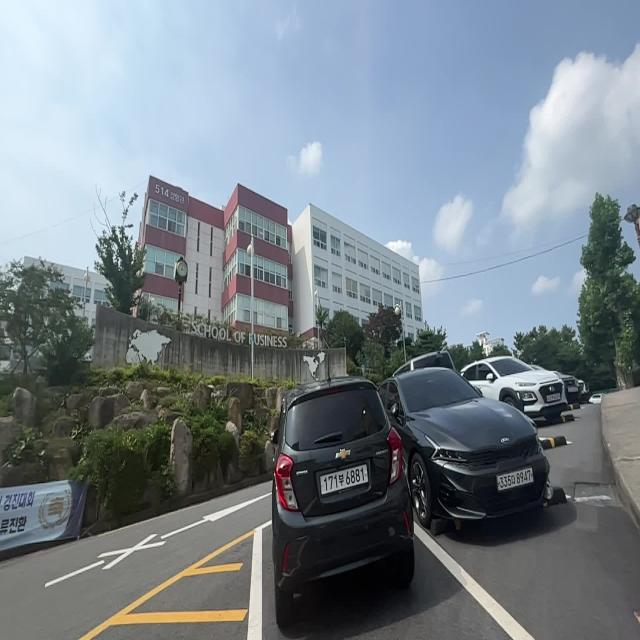building: (115, 170, 433, 323)
